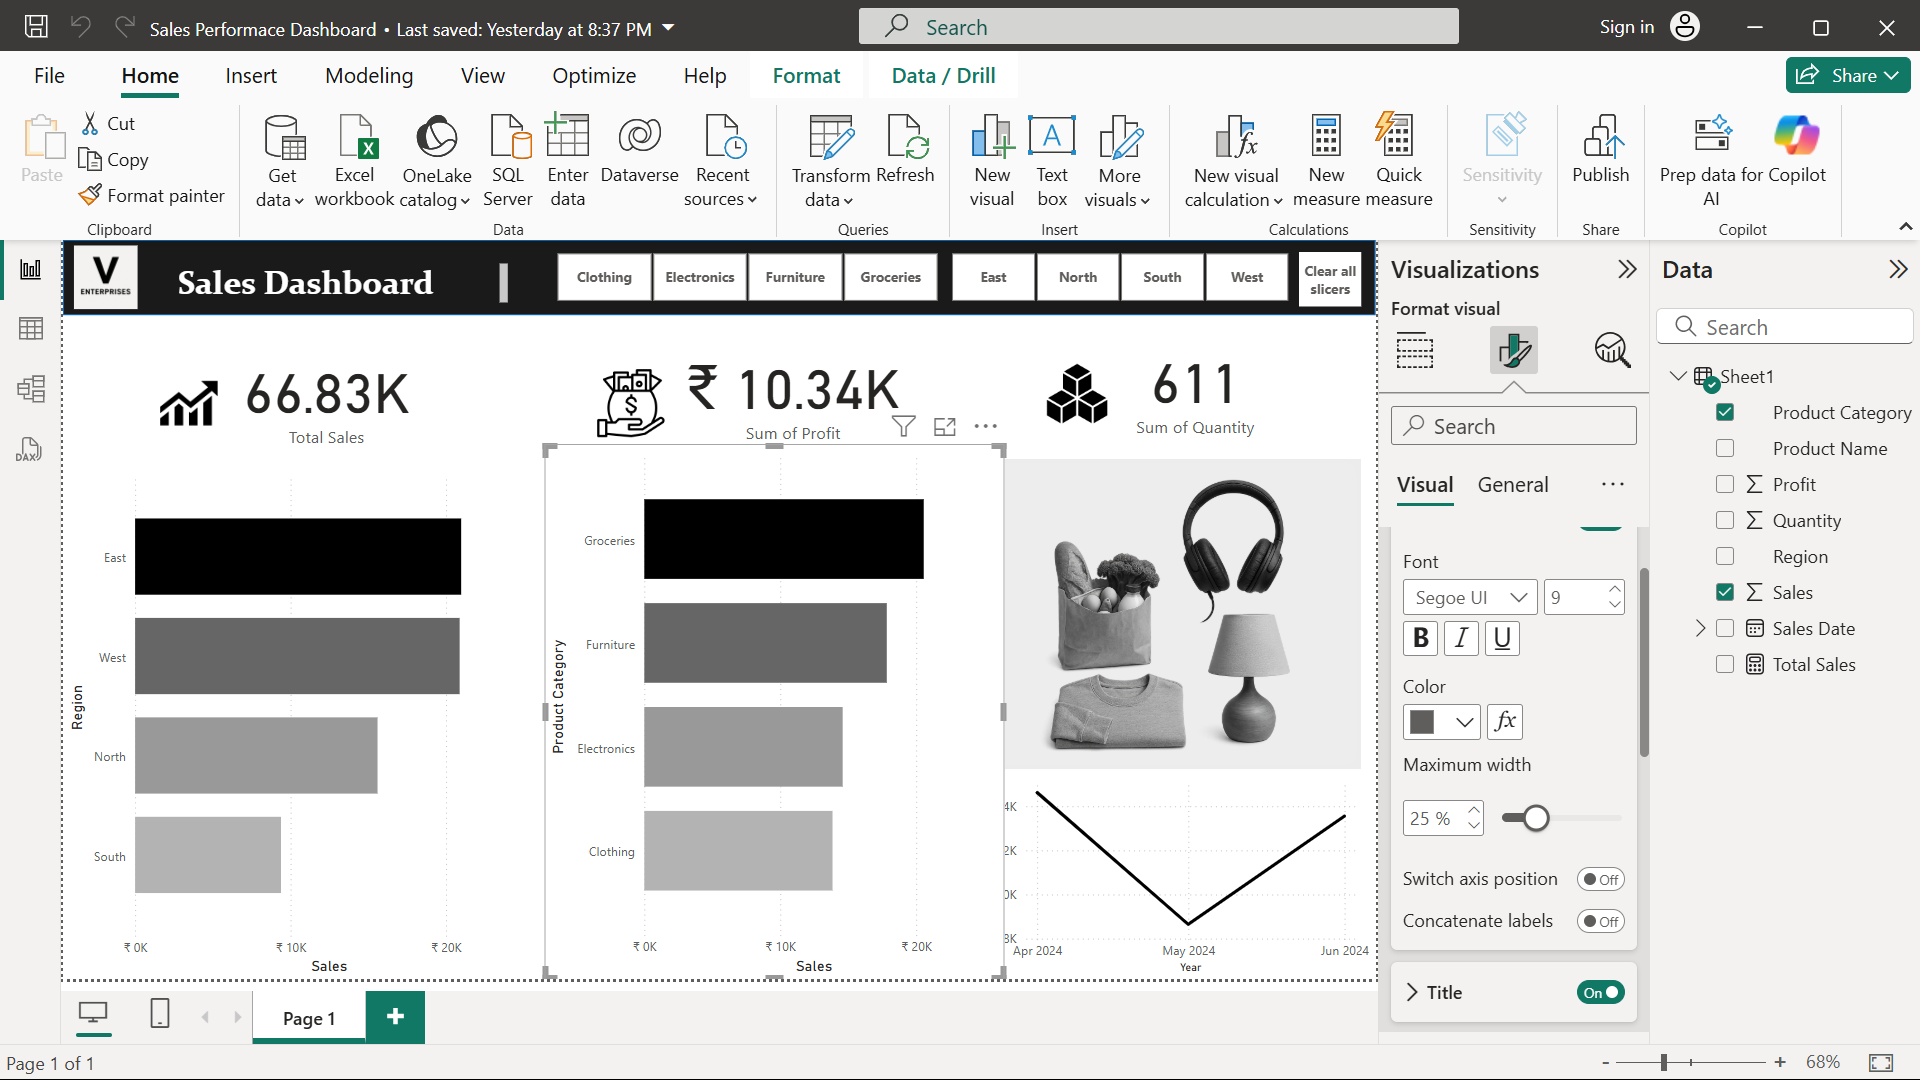

The page's visual inventory and layout, read from the dashboard file:
{"tool":"powerbi","page":{"name":"Page 1","canvas":[1280,720],"ordinal":0},"visuals":[{"type":"shape","box":[0,0,1278.7,73.2],"z":0},{"type":"card","fields":{"Values":["Sheet1.Total Sales"]},"box":[96,100.4,320.5,103.4],"z":1000},{"type":"card","fields":{"Values":["Sum(Sheet1.Quantity)"]},"box":[988.1,88.6,230.4,109.3],"z":2000},{"type":"card","fields":{"Values":["Sum(Sheet1.Profit)"]},"box":[581.9,99,259.9,100.4],"z":3000},{"type":"textbox","box":[107.4,17.4,331.6,48.9],"z":4000},{"type":"image","box":[0,0,83.7,72.6],"z":5000},{"type":"image","box":[69.4,125.5,107.8,66.5],"z":6000},{"type":"image","box":[505.1,118.2,96,81.2],"z":7000},{"type":"image","box":[943.8,109.3,88.6,79.8],"z":8000},{"type":"barChart","fields":{"Y":["Sum(Sheet1.Sales)"],"Category":["Sheet1.Region"]},"box":[0,219.2,469.1,501.3],"z":9000},{"type":"barChart","fields":{"Y":["Sum(Sheet1.Sales)"],"Category":["Sheet1.Product Category"]},"box":[469,198.9,448.4,521.1],"z":10000},{"type":"lineChart","fields":{"Y":["Sum(Sheet1.Sales)"],"Category":["Sheet1.Sales Date.Variation.Date Hierarchy.Year","Sheet1.Sales Date.Variation.Date Hierarchy.Quarter","Sheet1.Sales Date.Variation.Date Hierarchy.Month","Sheet1.Sales Date.Variation.Date Hierarchy.Day"]},"box":[876.3,516.3,401.1,203.7],"z":11000},{"type":"slicer","fields":{"Values":["Sheet1.Region"]},"box":[840,6.3,377.4,60],"z":12000},{"type":"slicer","fields":{"Values":["Sheet1.Product Category"]},"box":[456.3,6.3,420,60],"z":13000},{"type":"shape","box":[876.3,198.9,402.6,331.6],"z":14000},{"type":"actionButton","box":[1203.8,12.2,61,53.3],"z":15000},{"type":"image","box":[932.8,219.6,290.7,289.2],"z":16000}]}

Visuals, with their boxes in screenshot pixels (x1, y1, x2, y2):
shape: [0,0,1794,54]
card - Sheet1.Total Sales: [107,93,564,241]
card - Sum(Sheet1.Quantity): [1380,76,1709,232]
card - Sum(Sheet1.Profit): [800,91,1171,235]
textbox: [123,0,596,45]
image: [0,0,89,54]
image: [69,129,223,224]
image: [691,119,828,235]
image: [1317,106,1443,220]
barChart - Sum(Sheet1.Sales) x Sheet1.Region: [0,263,639,978]
barChart - Sum(Sheet1.Sales) x Sheet1.Product Category: [639,234,1279,977]
lineChart - Sum(Sheet1.Sales) x Sheet1.Sales Date.Variation.Date Hierarchy.Year: [1220,687,1793,977]
slicer - Sheet1.Region: [1169,0,1707,45]
slicer - Sheet1.Product Category: [621,0,1220,45]
shape: [1220,234,1795,707]
actionButton: [1688,0,1775,43]
image: [1301,263,1716,676]
